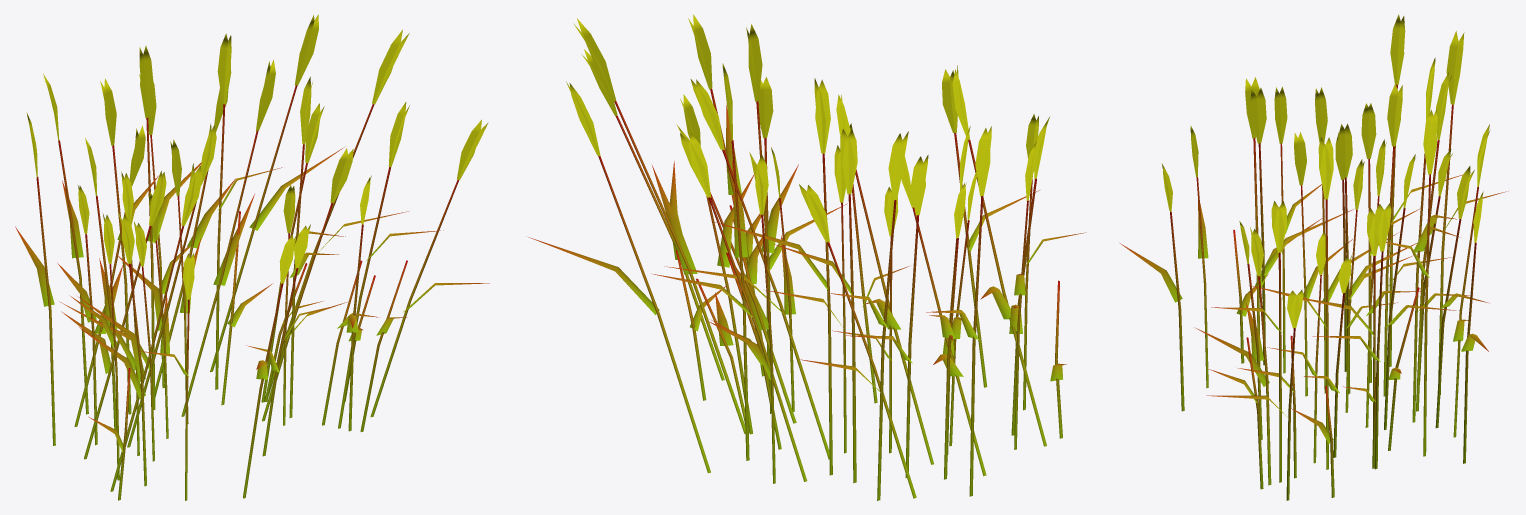
File: kelp.glb
3 renders of one model, left to right at view 1: azimuth 30°, elevation 25°; view 2: azimuth 150°, elevation 25°; view 3: azimuth 270°, elevation 25°, orthographic. The views are drawn at different scales.
Parts seen in each view (by area): view 1: v1, v0, v3, v2; view 2: v1, v0, v3, v2; view 3: v0, v1, v2, v3.
Part boxes in pixels (left/top/right/bottom): v1: left=61, top=14, right=489, bottom=491; v0: left=15, top=33, right=371, bottom=486; v3: left=88, top=102, right=443, bottom=500; v2: left=59, top=74, right=338, bottom=500; v1: left=528, top=18, right=1046, bottom=498; v0: left=712, top=24, right=1049, bottom=500; v3: left=676, top=14, right=1066, bottom=449; v2: left=711, top=114, right=1086, bottom=483; v0: left=1195, top=14, right=1508, bottom=485; v1: left=1206, top=88, right=1489, bottom=500; v2: left=1190, top=86, right=1490, bottom=463; v3: left=1120, top=163, right=1419, bottom=497.
Bounding box in the file's own units: 11.49 × 9.46 × 9.27.
